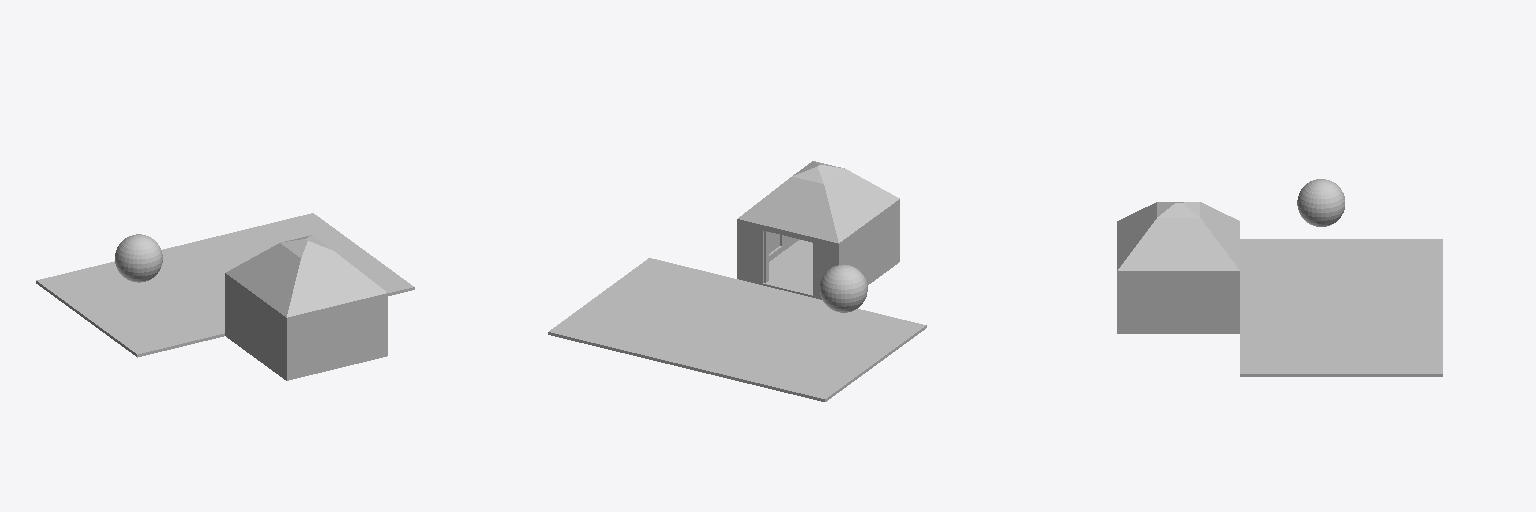
File: mainRoom.obj
The picture shows the model from 3 angles: view 1: azimuth 30°, elevation 25°; view 2: azimuth 150°, elevation 25°; view 3: azimuth 270°, elevation 25°; orthographic projection.
Visible parts, largest first — view 1: Cube.006, Cube.005, Cube.003, Cube.001; view 2: Cube.006, Cube.005, Cube.004, Cube.001, Cube; view 3: Cube.006, Cube.005, Cube.002, Cube.004.
Part boxes in pixels (bbox=[...]): Cube.006: bbox=[36, 213, 414, 357]; Cube.005: bbox=[225, 235, 387, 322]; Cube.003: bbox=[291, 300, 382, 379]; Cube.001: bbox=[231, 283, 290, 380]; Cube.006: bbox=[548, 258, 926, 401]; Cube.005: bbox=[737, 161, 899, 248]; Cube.004: bbox=[737, 224, 843, 299]; Cube.001: bbox=[844, 204, 899, 284]; Cube: bbox=[769, 240, 812, 289]; Cube.006: bbox=[1240, 179, 1442, 376]; Cube.005: bbox=[1117, 202, 1239, 275]; Cube.002: bbox=[1117, 276, 1228, 333]; Cube.004: bbox=[1229, 276, 1239, 333].
Size of the model in its own units: 60 by 22 by 61.